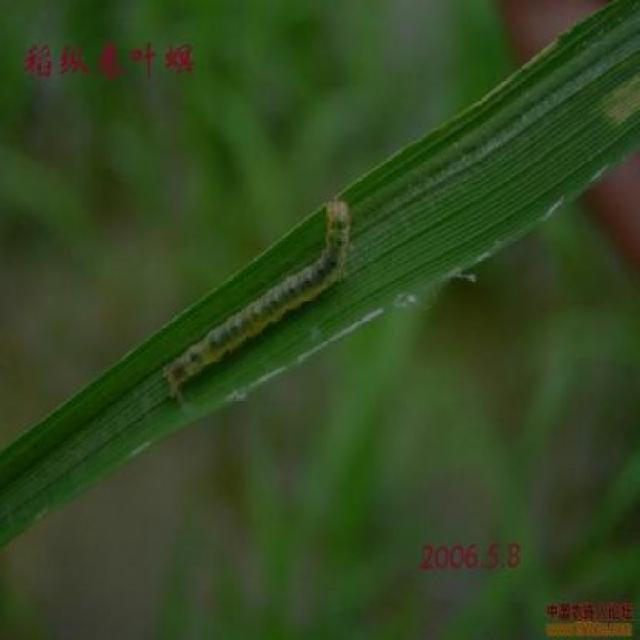leaf-folder: (152, 186, 372, 400)
